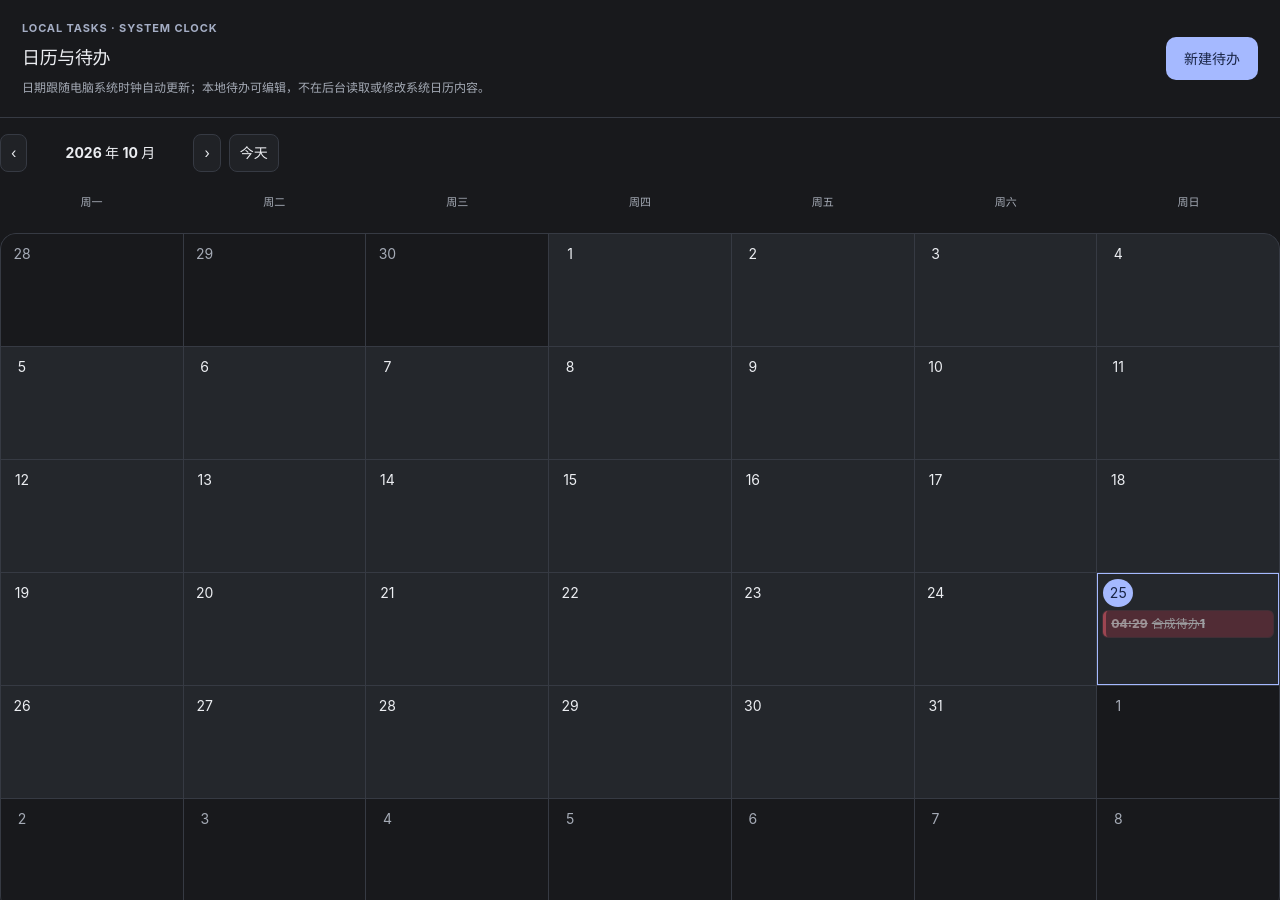
Scenario: calendar data coverage › does not remind completed events and recovers from a failed deletion
Step 1. Click the button "04:29合成待办1" → {"x": 1188, "y": 624}, box [1103,611,1273,638]
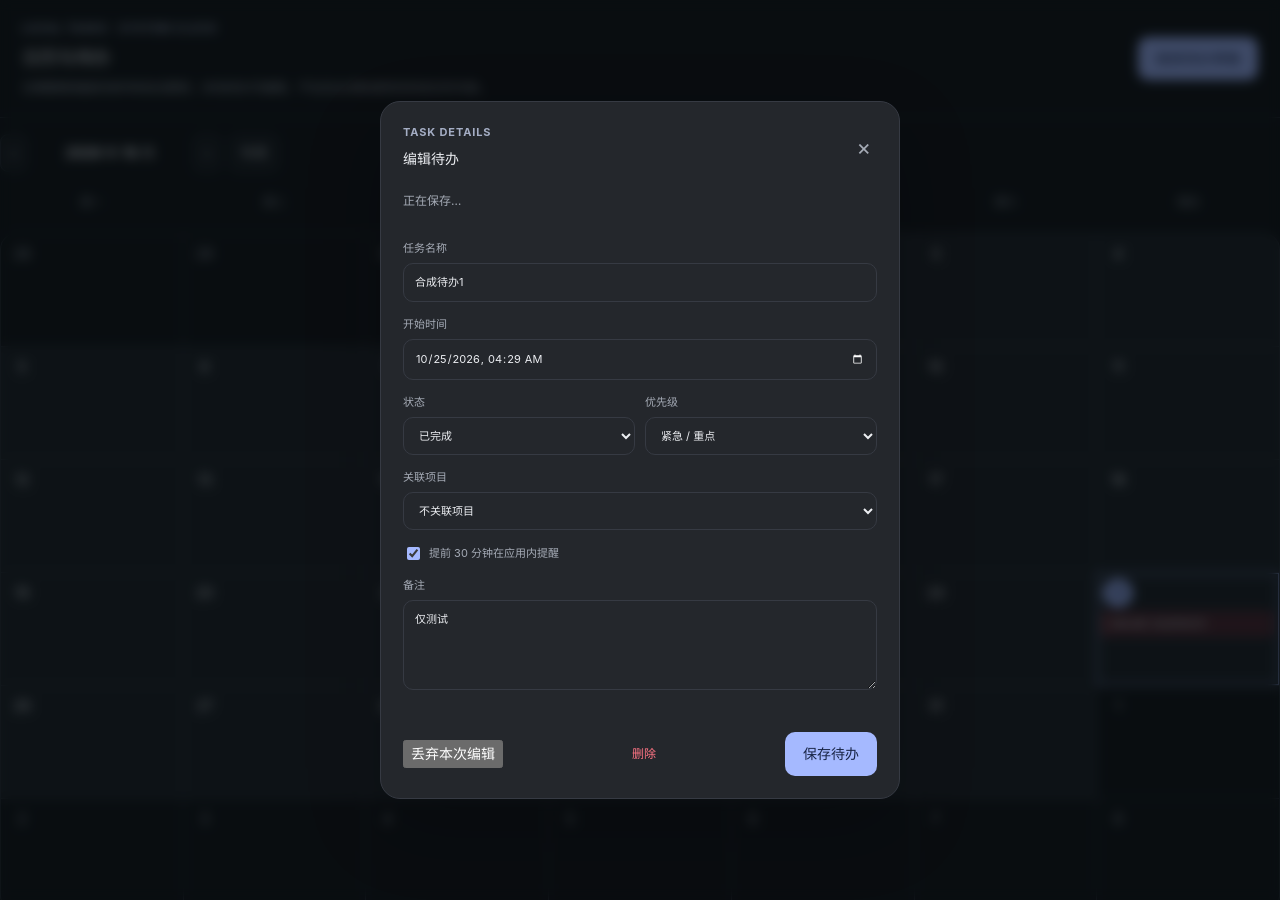
Step 2. Click the button "删除" → {"x": 644, "y": 754}, box [623,738,665,770]
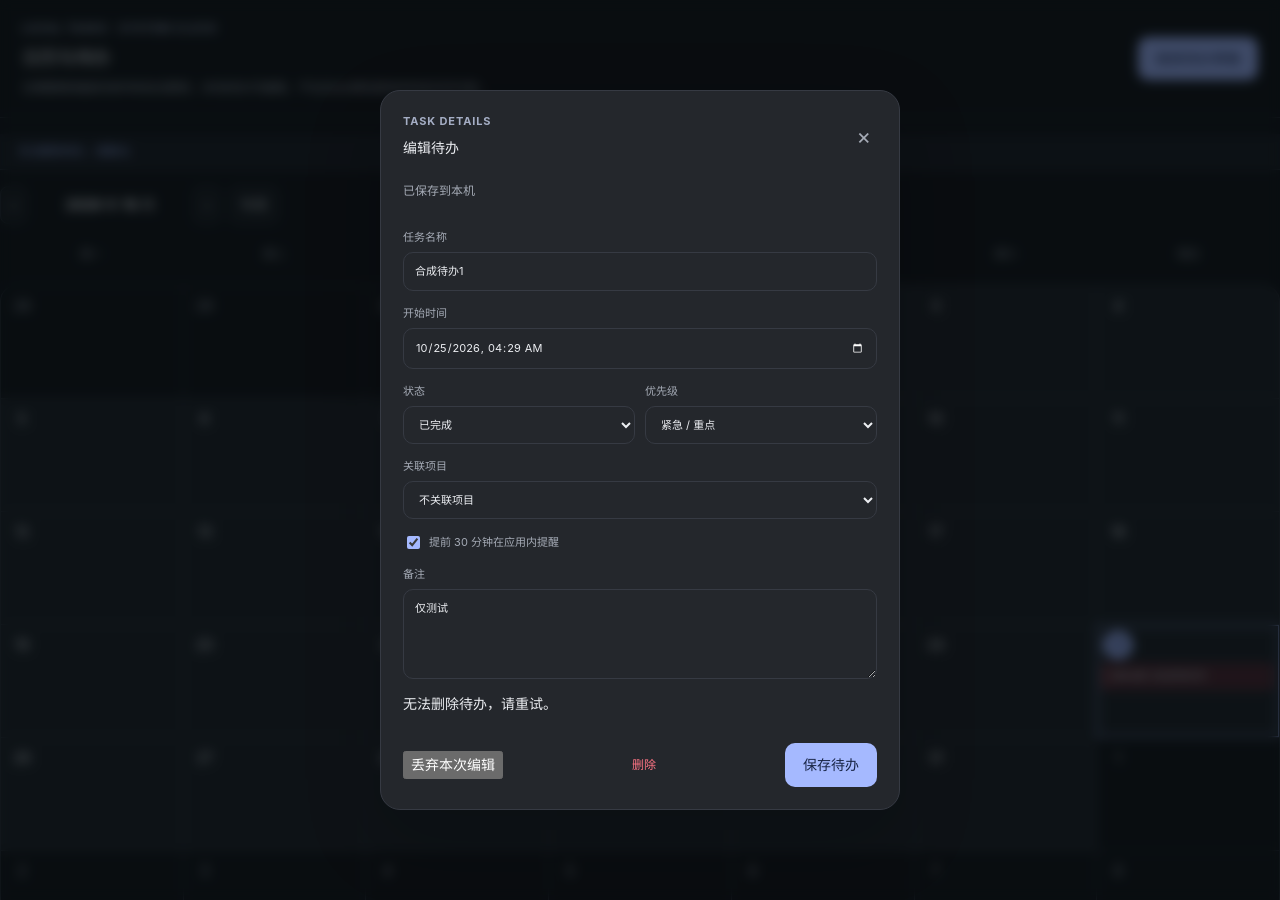
Step 3. Click the button "删除" → {"x": 644, "y": 765}, box [623,749,665,781]
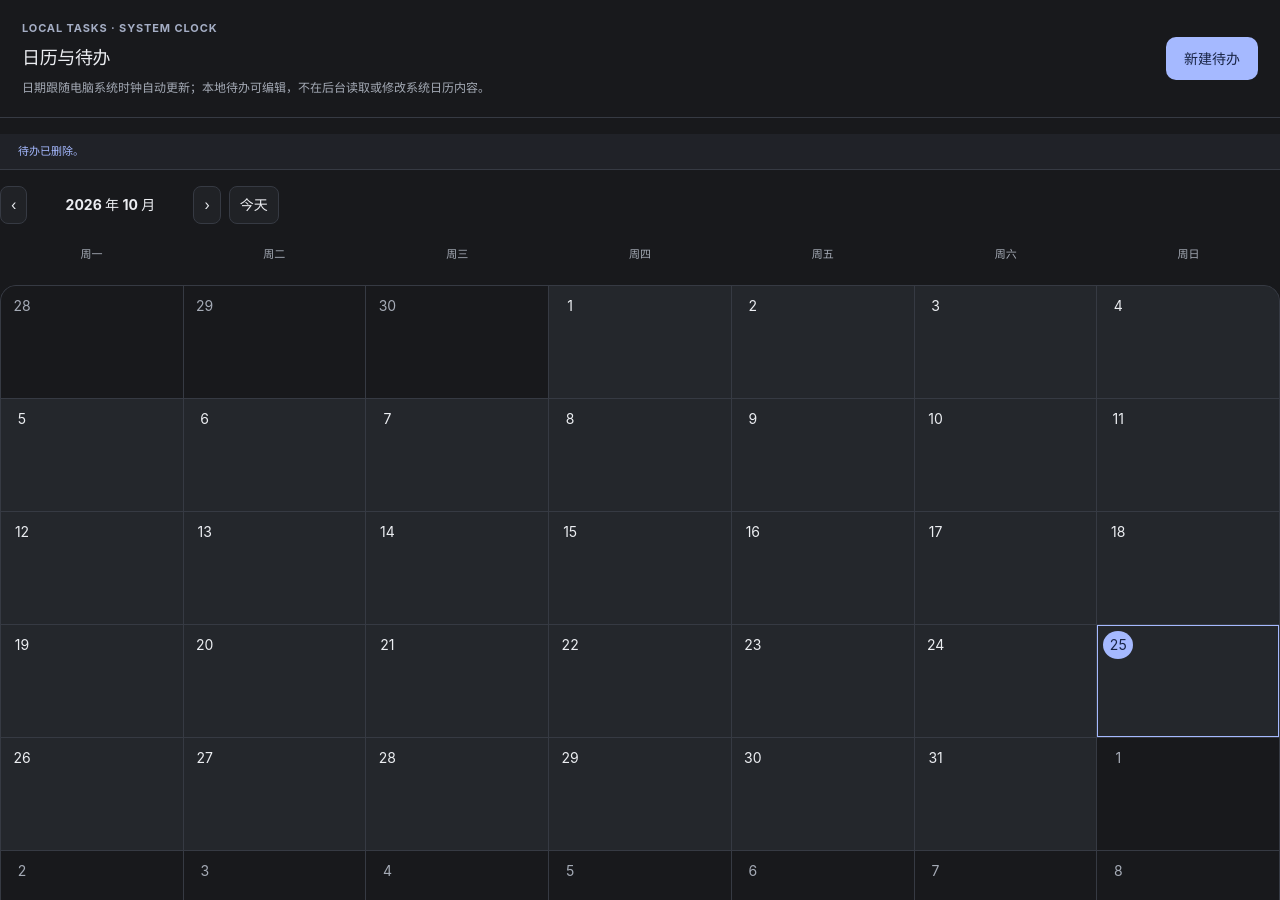
Check: the button "合成待办1" is not shown
Check: the dialog is gone
